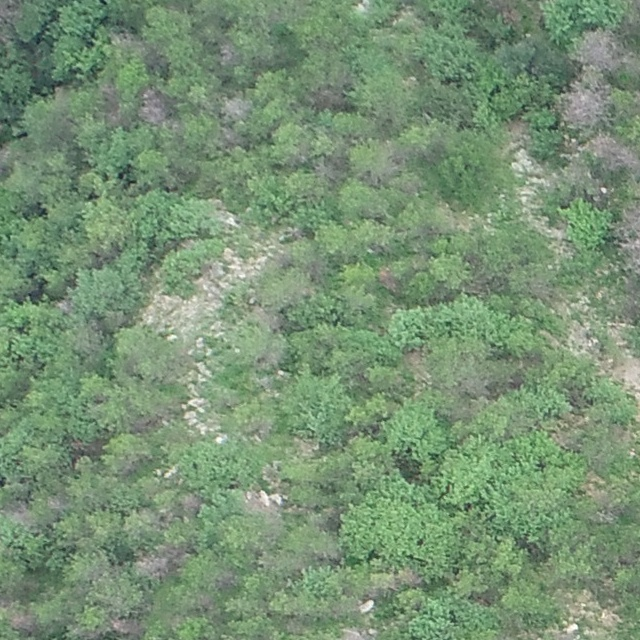unhealthy: (558, 81, 609, 127), (573, 28, 625, 72), (587, 132, 637, 171), (134, 545, 182, 578), (137, 86, 169, 126), (306, 84, 349, 111), (618, 231, 640, 280), (311, 154, 347, 182), (402, 346, 430, 378), (3, 500, 36, 527), (457, 374, 494, 398), (220, 94, 251, 121), (109, 615, 142, 639), (217, 123, 247, 149), (0, 0, 20, 34), (375, 264, 400, 291), (8, 610, 36, 634), (216, 39, 240, 66), (396, 567, 424, 589), (340, 625, 375, 639), (179, 493, 201, 514), (47, 493, 68, 511)
